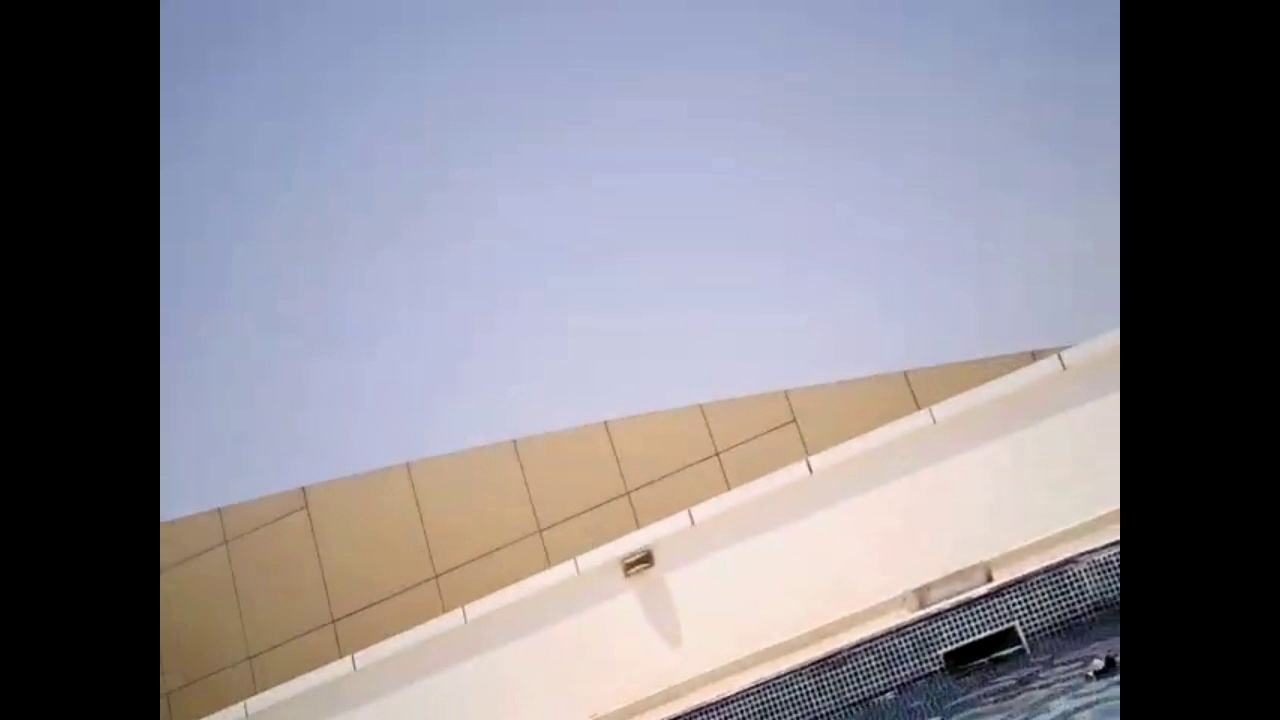debris: (1078, 644, 1118, 687)
